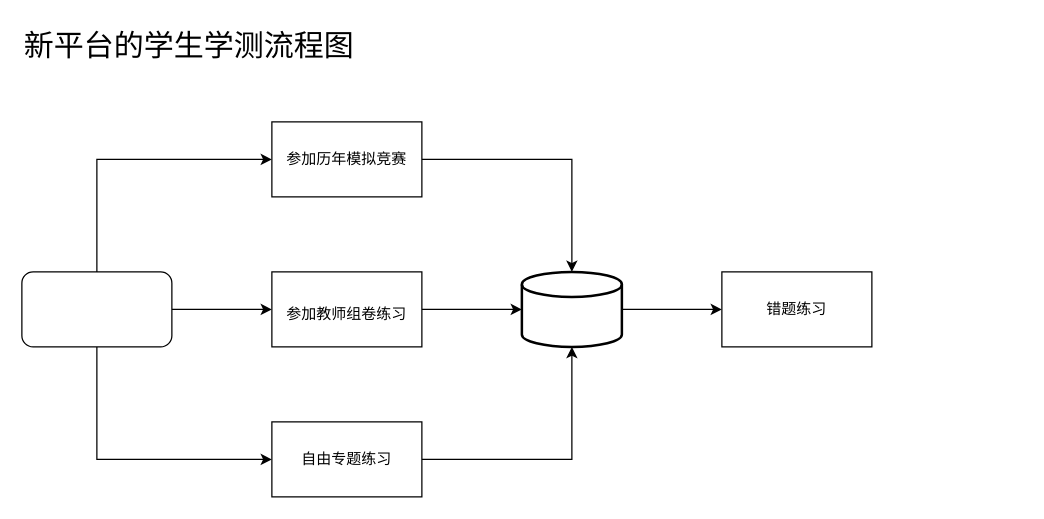
The diagram is 1044 pixels wide and 519 high, and some of its shapes have lost their labels. Here are the shapes that lost their labels. From the top down, the centre of each, then its label:
At (x=96, y=309): "学生".
At (x=571, y=309): "错题集".
